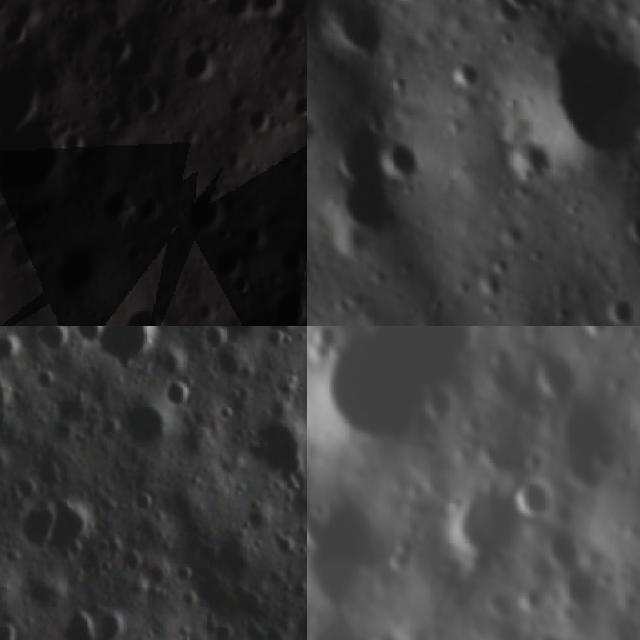crater: (493, 1, 640, 198), (307, 326, 480, 449), (324, 163, 417, 256), (442, 484, 528, 572), (318, 0, 394, 70), (371, 139, 438, 206), (504, 138, 560, 196), (89, 326, 162, 368), (507, 470, 561, 523), (9, 498, 54, 556), (0, 70, 49, 117), (538, 354, 581, 402), (608, 207, 640, 270), (492, 0, 551, 33), (593, 289, 640, 326), (194, 187, 227, 233), (208, 244, 247, 282), (158, 376, 195, 414), (57, 605, 97, 640), (425, 387, 462, 423), (106, 186, 144, 220), (186, 43, 220, 80), (91, 607, 129, 640), (267, 288, 301, 324), (276, 238, 307, 275), (307, 100, 324, 163), (35, 326, 70, 356), (130, 83, 158, 120), (0, 10, 29, 44), (128, 489, 161, 518), (248, 105, 274, 138), (61, 126, 83, 163), (74, 326, 105, 352), (28, 367, 61, 391), (491, 346, 520, 373), (0, 333, 20, 370), (253, 0, 287, 20), (310, 326, 337, 351), (256, 326, 295, 342), (124, 314, 173, 326), (0, 199, 17, 232), (291, 89, 307, 122), (224, 0, 244, 22), (0, 449, 13, 480), (0, 619, 19, 640), (196, 0, 216, 5)
